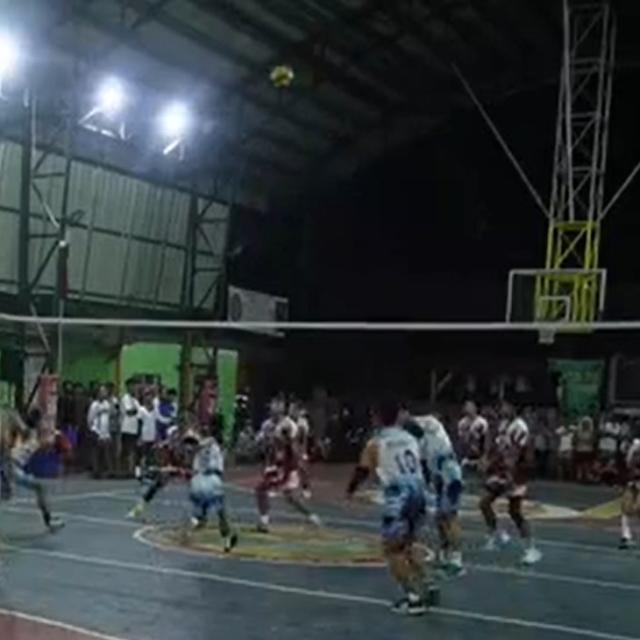volleyball: (272, 66, 292, 85)
